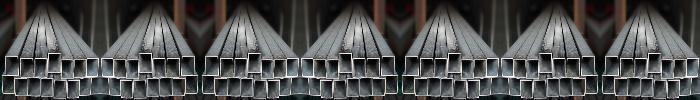pipe: (352, 59, 366, 77), (234, 59, 248, 77), (152, 59, 166, 77), (34, 59, 48, 77), (634, 59, 648, 77), (553, 59, 566, 77), (320, 81, 333, 98), (462, 60, 475, 77), (267, 81, 280, 98), (467, 81, 480, 98), (120, 81, 133, 98), (520, 81, 533, 98), (67, 81, 80, 98), (667, 81, 680, 98), (339, 54, 351, 72), (382, 57, 394, 75), (333, 80, 345, 98), (372, 78, 384, 96), (249, 54, 261, 72), (449, 54, 461, 72), (139, 54, 151, 72), (539, 54, 551, 72), (49, 54, 61, 72), (649, 54, 661, 72), (406, 57, 418, 75), (182, 57, 194, 75), (582, 57, 594, 75), (6, 57, 18, 75), (606, 57, 618, 75), (255, 80, 267, 98), (455, 80, 467, 98), (133, 80, 145, 98), (533, 80, 545, 98), (55, 80, 67, 98), (655, 80, 667, 98), (442, 78, 454, 96), (146, 78, 158, 96), (546, 78, 558, 96), (642, 78, 654, 96), (416, 78, 428, 96), (572, 78, 584, 96), (16, 78, 28, 96), (616, 78, 628, 96), (435, 59, 447, 77), (326, 60, 338, 77), (313, 60, 325, 77), (262, 60, 274, 77), (126, 60, 138, 77), (526, 60, 538, 77), (62, 60, 74, 77), (662, 60, 674, 77), (275, 60, 287, 77), (475, 60, 487, 77), (113, 60, 125, 77), (513, 60, 525, 77), (75, 60, 87, 77), (675, 60, 687, 77), (347, 78, 358, 96), (360, 78, 371, 96), (207, 57, 218, 75), (242, 78, 253, 96), (43, 78, 54, 96), (430, 78, 441, 96), (216, 78, 227, 96), (172, 78, 183, 96), (488, 58, 499, 76), (102, 58, 113, 76), (88, 58, 99, 76), (367, 60, 379, 76), (308, 79, 320, 95), (221, 60, 233, 76), (421, 60, 433, 76), (167, 60, 179, 76), (567, 60, 579, 76), (21, 60, 33, 76), (621, 60, 633, 76), (280, 79, 292, 95), (480, 79, 492, 95), (108, 79, 120, 95), (508, 79, 520, 95), (80, 79, 92, 95), (680, 79, 692, 95), (302, 58, 312, 76), (230, 78, 240, 96), (160, 78, 170, 96), (560, 78, 570, 96), (30, 78, 40, 96), (630, 78, 640, 96), (288, 58, 298, 76), (502, 58, 512, 76), (688, 58, 698, 76), (386, 77, 397, 93), (404, 77, 415, 93), (3, 77, 14, 93), (204, 77, 214, 93), (186, 77, 196, 93), (586, 77, 596, 93), (604, 77, 614, 93), (300, 77, 309, 94), (291, 77, 300, 94), (491, 77, 500, 94), (100, 77, 109, 94), (500, 77, 509, 94), (91, 77, 100, 94), (691, 77, 700, 94)
